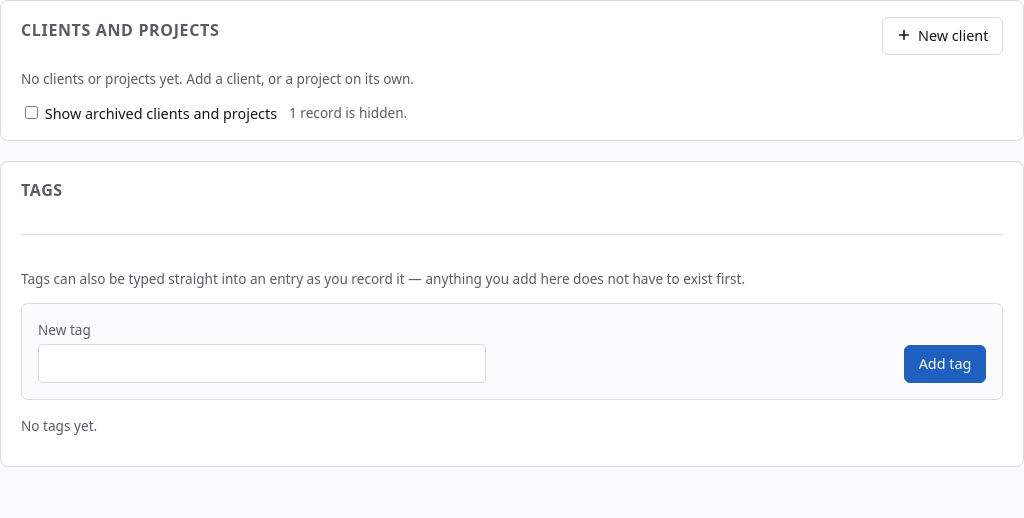
the one archived control › hides both again on the way out
Click the checkbox labelled "Show archived clients and projects": (32, 112) [25, 106, 38, 119]
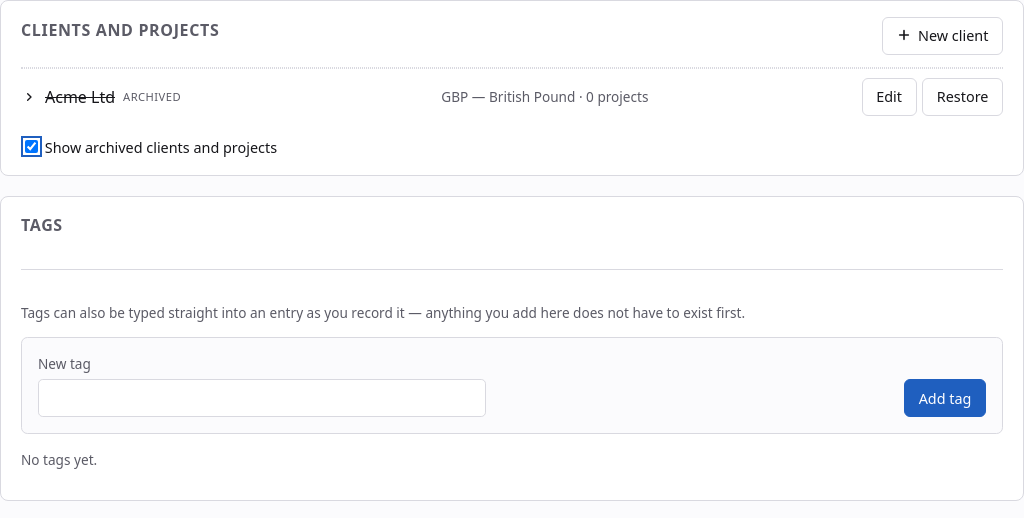
Expected: the text "Acme Ltd" is shown, [45, 85, 115, 109]
Click the checkbox labelled "Show archived clients and projects": (32, 146) [25, 140, 38, 153]
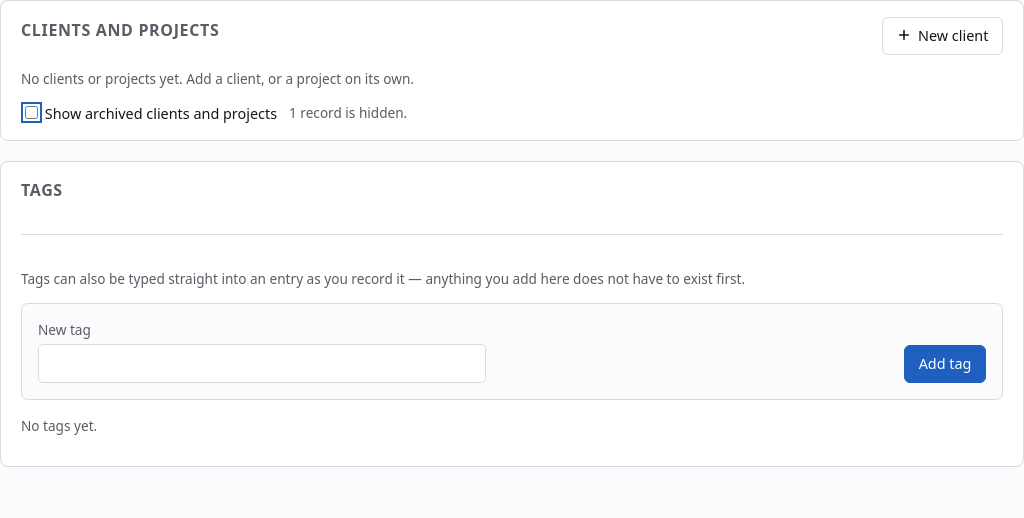
Expected: the button "Acme Ltd" is gone
